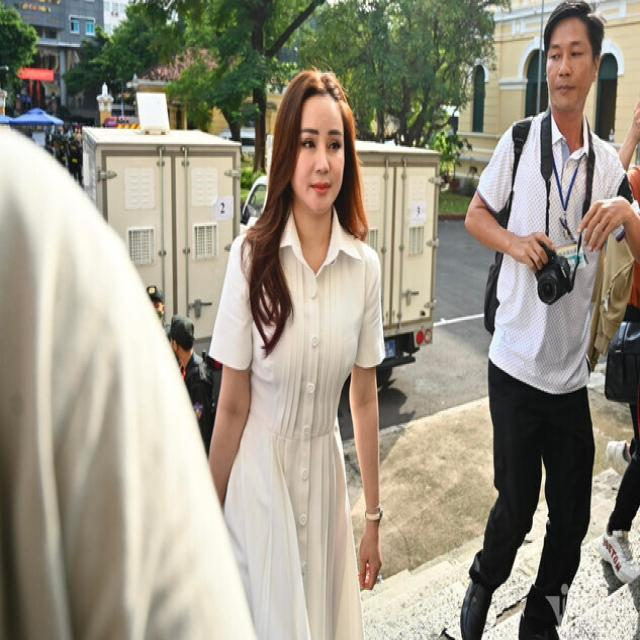Nonhelmet: (275, 58, 356, 215), (535, 3, 607, 118)
